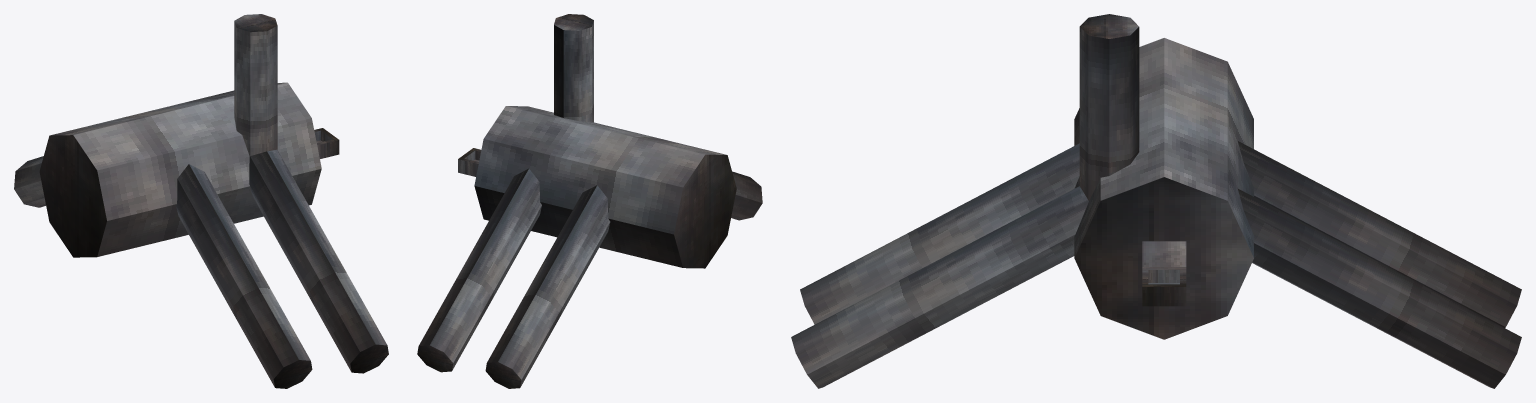
Rendered from gena.glb.
3 views of the same model, side by side, from view 1: azimuth 30°, elevation 25°; view 2: azimuth 150°, elevation 25°; view 3: azimuth 270°, elevation 25° (orthographic). The views are drawn at different scales.
Visible parts, largest first — view 1: Cylinder, Cylinder.002, Cylinder.003, Cylinder.001, Cylinder.005, Cube; view 2: Cylinder, Cylinder.004, Cylinder.005, Cylinder.001, Cylinder.003, Cube; view 3: Cylinder, Cylinder.002, Cylinder.004, Cylinder.005, Cylinder.003, Cylinder.001, Cube.
Boxes of the visible parts, x1,y1,x2,y2 form: Cylinder: (39,82,321,257); Cylinder.002: (249,149,388,373); Cylinder.003: (176,164,312,388); Cylinder.001: (234,14,277,155); Cylinder.005: (14,156,45,207); Cube: (314,128,339,158); Cylinder: (474,106,736,268); Cylinder.004: (417,168,541,372); Cylinder.005: (485,185,610,388); Cylinder.001: (554,14,593,122); Cylinder.003: (731,171,762,220); Cube: (458,148,481,176); Cylinder: (1074,38,1253,339); Cylinder.002: (791,186,1088,388); Cylinder.004: (1238,189,1521,388); Cylinder.005: (1238,141,1521,327); Cylinder.003: (800,143,1079,324); Cylinder.001: (1079,14,1139,200); Cube: (1142,241,1186,306).
Bounding box in the file's own units: 6.61 × 6.65 × 12.2.
Materials: 1 (1 with a texture image).
